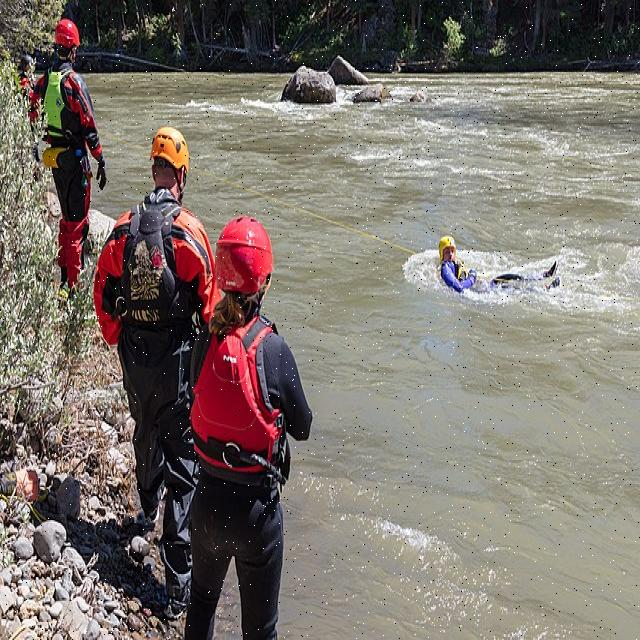rescuer: (117, 122, 197, 557), (204, 213, 285, 636), (37, 17, 94, 253), (435, 223, 563, 302)
